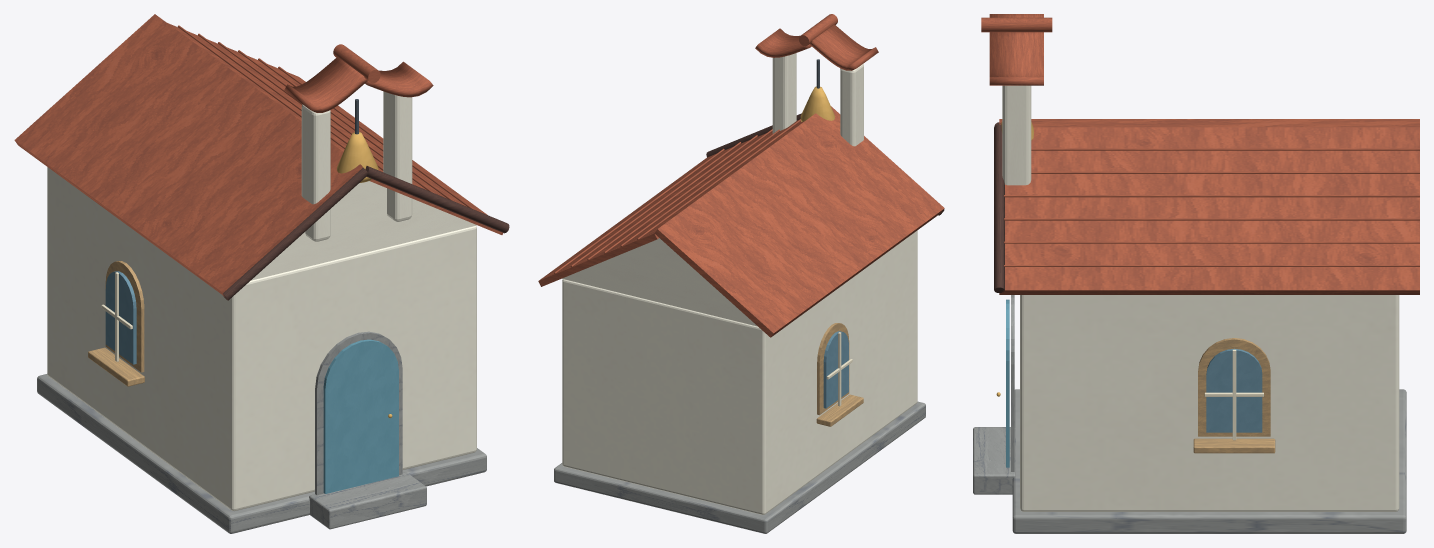
File: church.glb
The picture shows the model from 3 angles, left to right: view 1: azimuth 30°, elevation 25°; view 2: azimuth 150°, elevation 25°; view 3: azimuth 270°, elevation 25°; orthographic projection. The views are drawn at different scales.
Visible parts, largest first — view 1: church; view 2: church; view 3: church.
Boxes of the visible parts, x1=… form: church: x1=14, y1=14, x2=509, y2=533; church: x1=538, y1=14, x2=944, y2=533; church: x1=973, y1=14, x2=1419, y2=533.
Size of the model in its own units: 4.09 by 6.06 by 5.42.
Materials: 3 (3 with a texture image).
